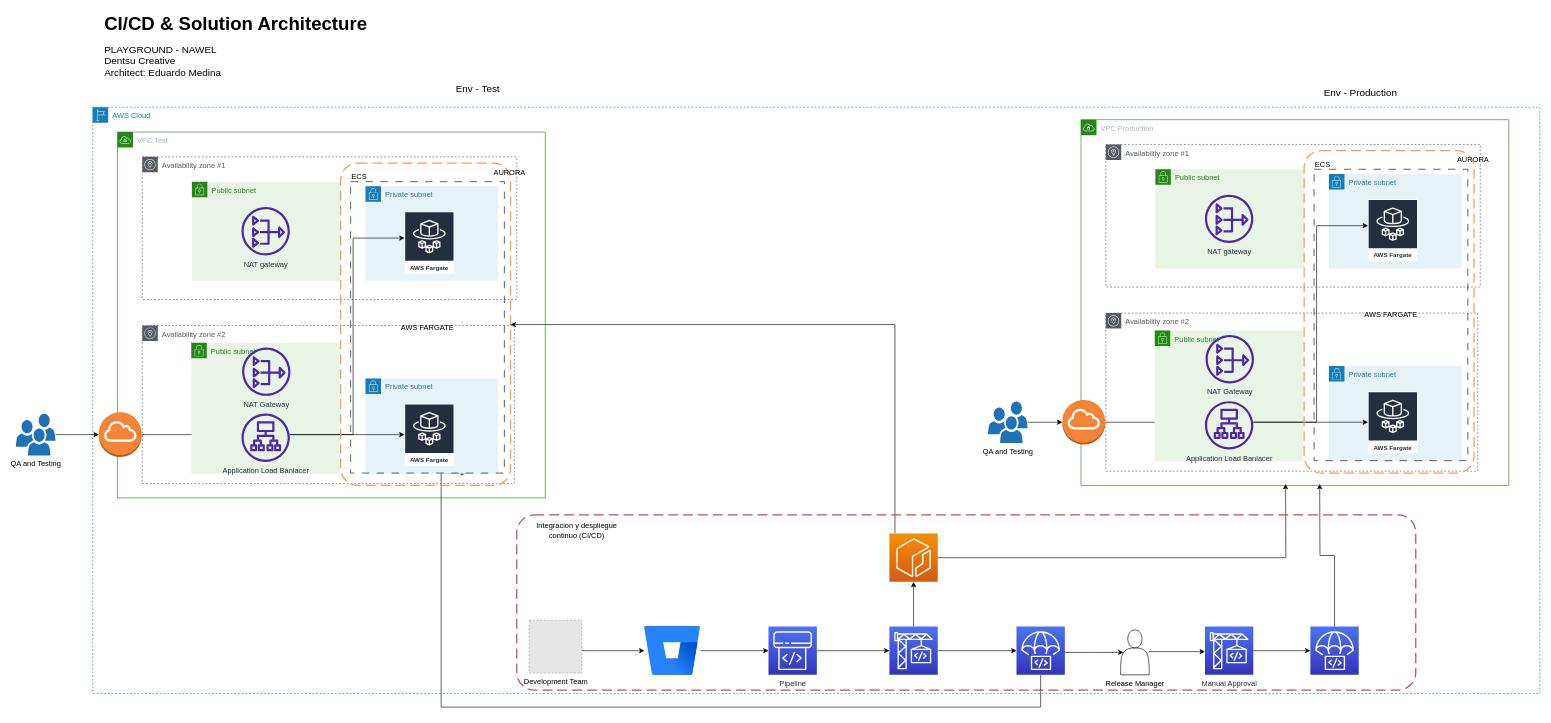
Some shapes in this 1551 by 723 pixel diagram are drawn without their labels. Grey dashed boxes stand in for pictures. The box of each missing label's shape, as (x1, y1, x2, y2) in pixels:
Buiil, Test, and Push to ECR: (889, 626, 938, 675)
Deploy to Production: (1310, 626, 1359, 675)
Deploy to Test: (1016, 626, 1065, 675)
Repository: (644, 626, 700, 675)
